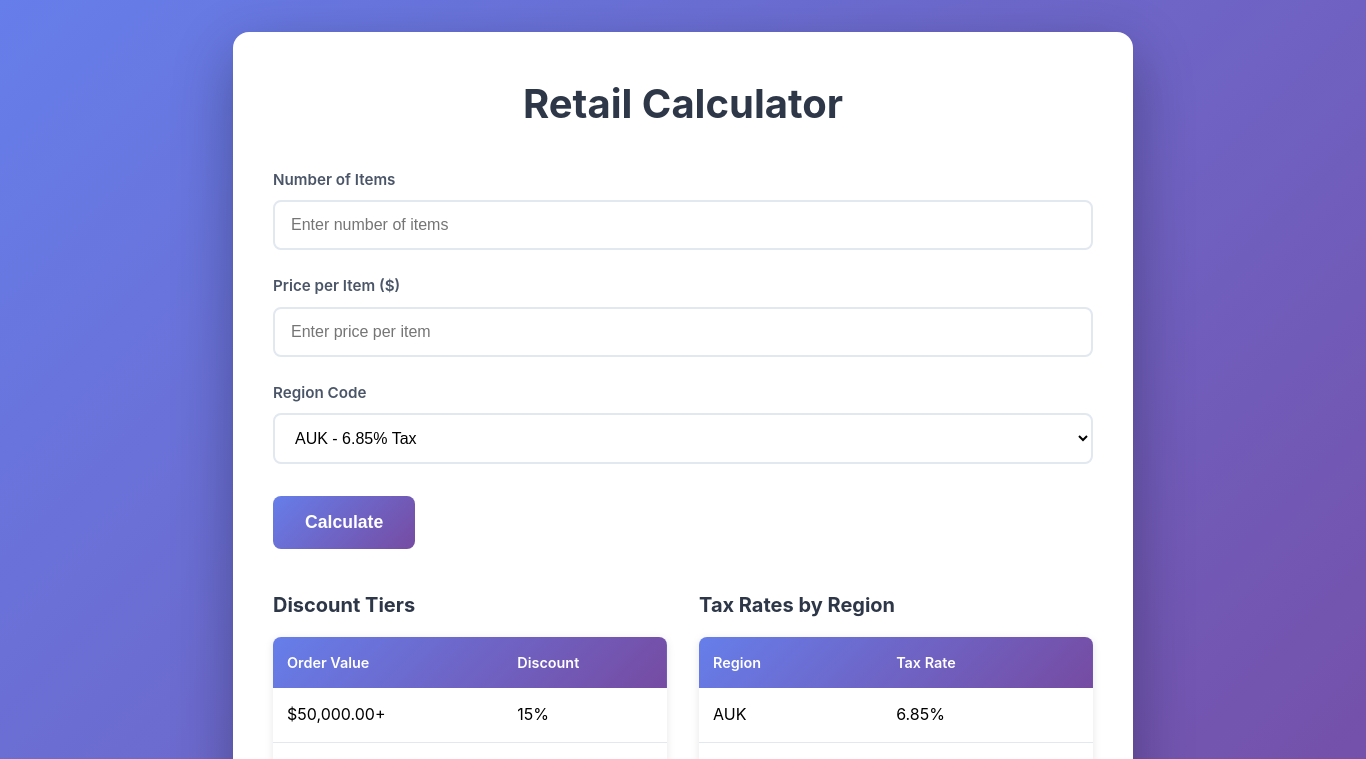
Test: App Component › Form Validation › shows validation error for empty price per item
The image size is (1366, 759).
Note: Fill only numItems, leave price empty
Type "10" into the number field labelled "Number of Items". click: {"x": 683, "y": 225}
box: [273, 200, 1093, 250]
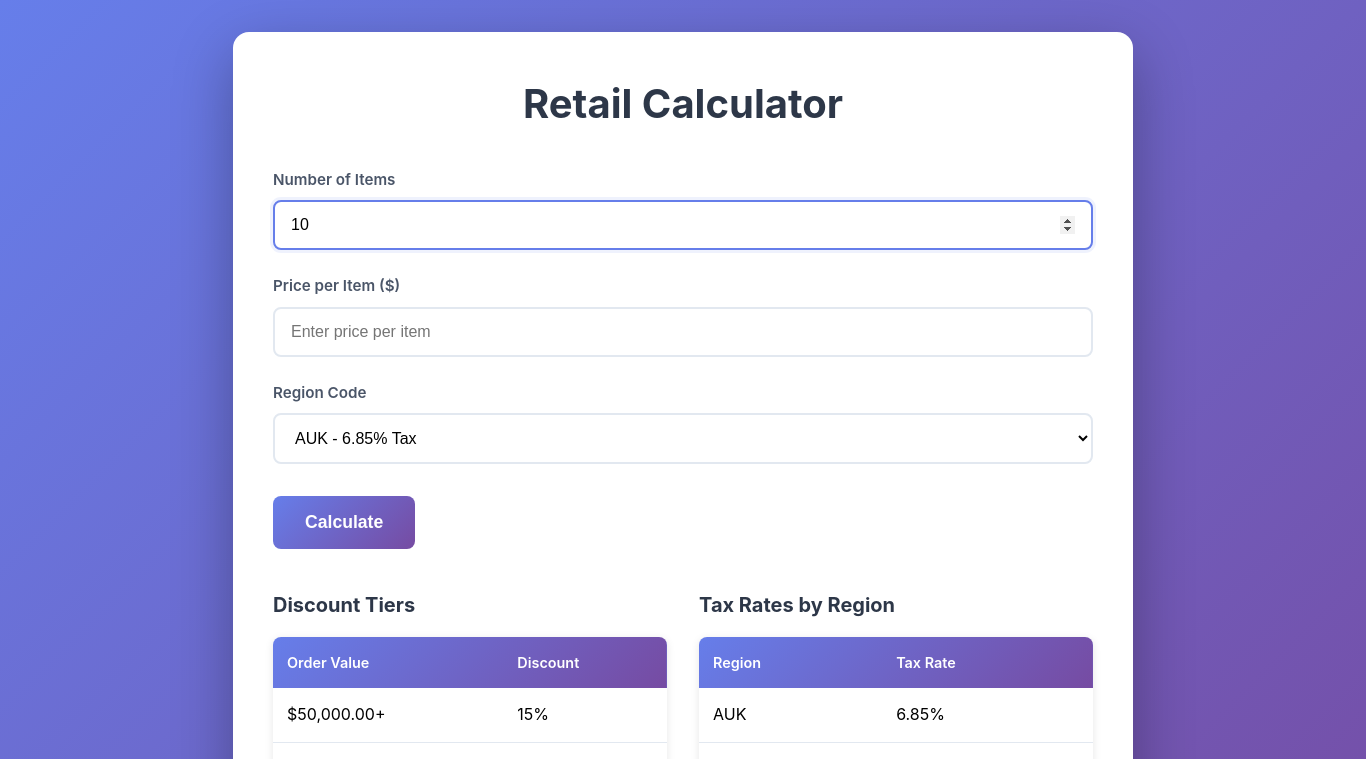
Click the button "Calculate". click: {"x": 344, "y": 522}
box: [273, 496, 415, 549]
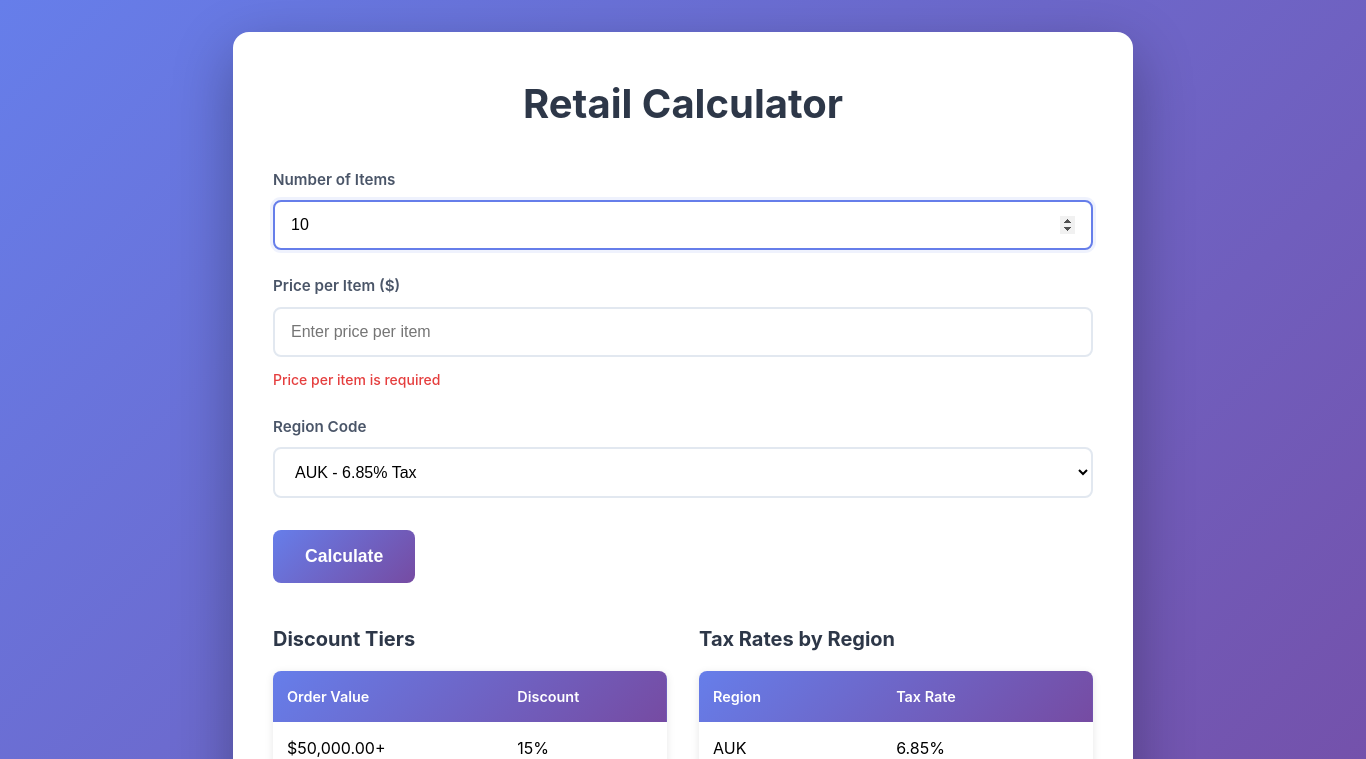
Now the text "Price per item is required" is shown, box [273, 371, 440, 388]
